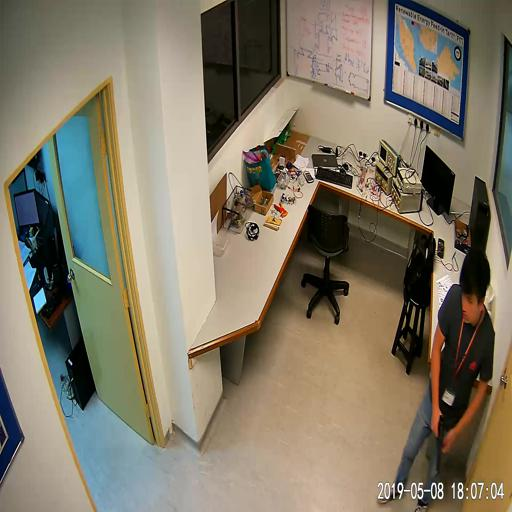pistol: (428, 412, 448, 473)
